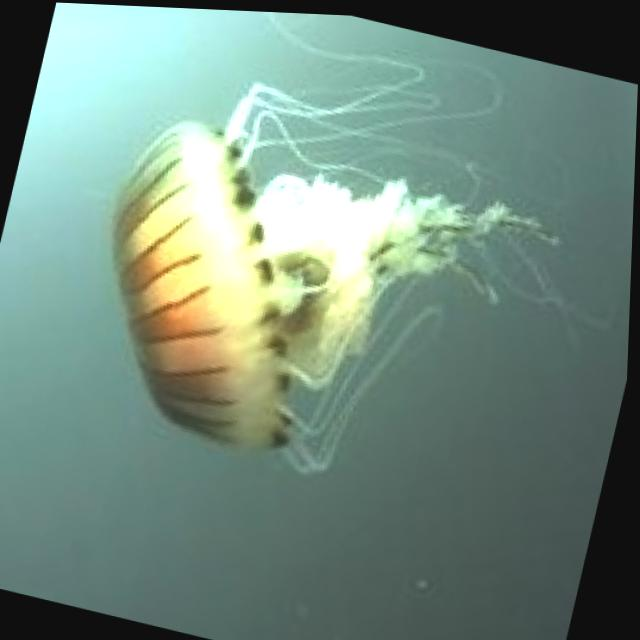Box-jellyfish: (63, 3, 640, 532)
